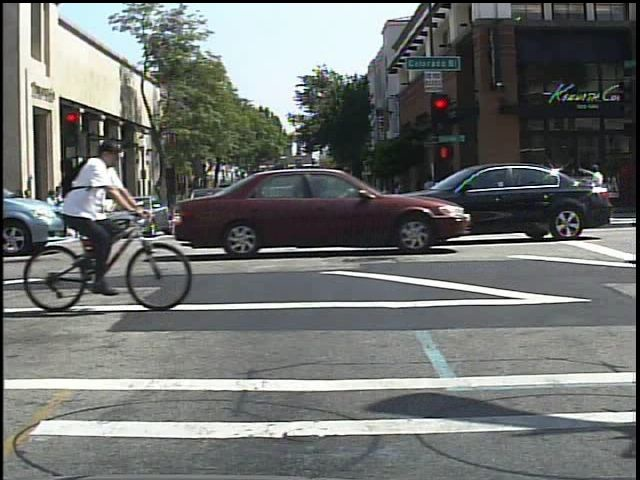person: (64, 126, 141, 304), (588, 158, 614, 223)
